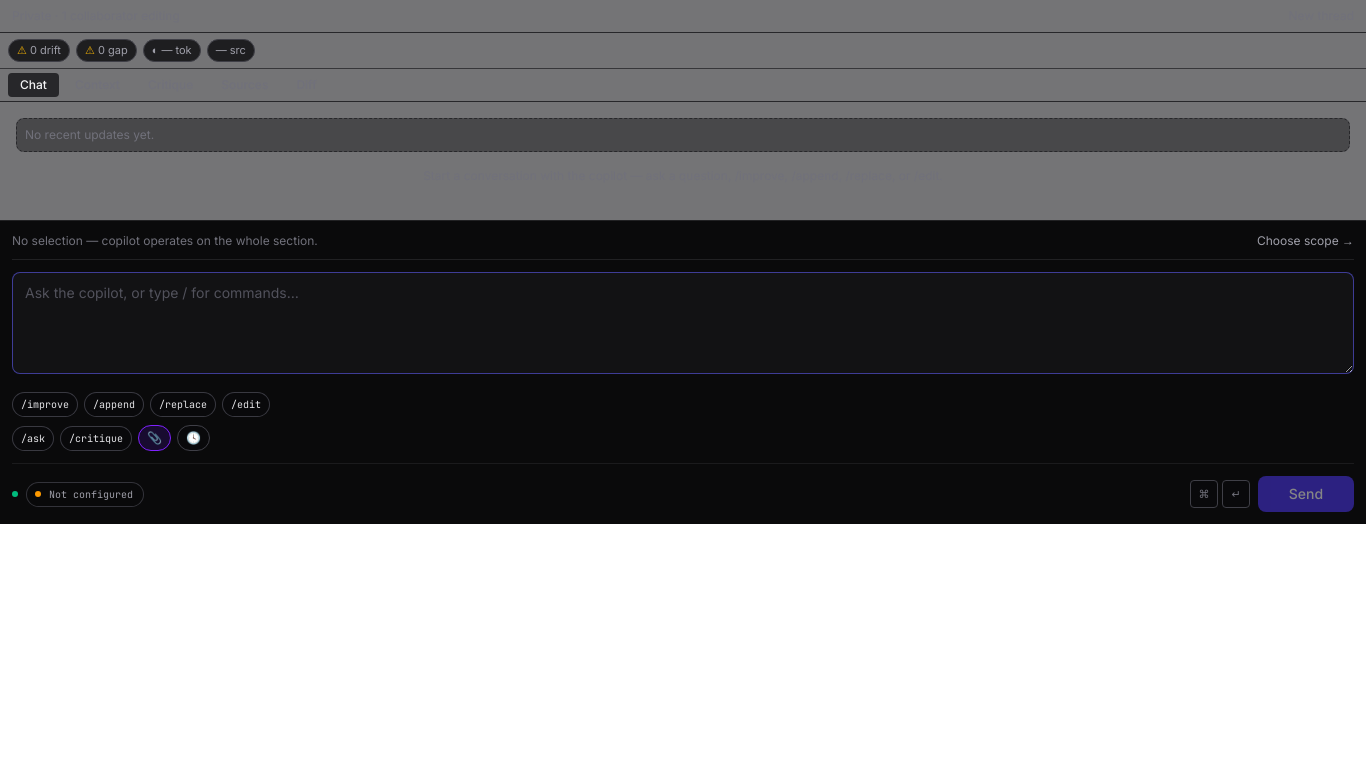
Scenario: ThreadPanel › hides context truncation banner when a new send starts
The image size is (1366, 768).
Type "first" into the text box with placeholder "Ask the copilot, or type / for commands…" at (683, 323), box [12,272,1354,374]
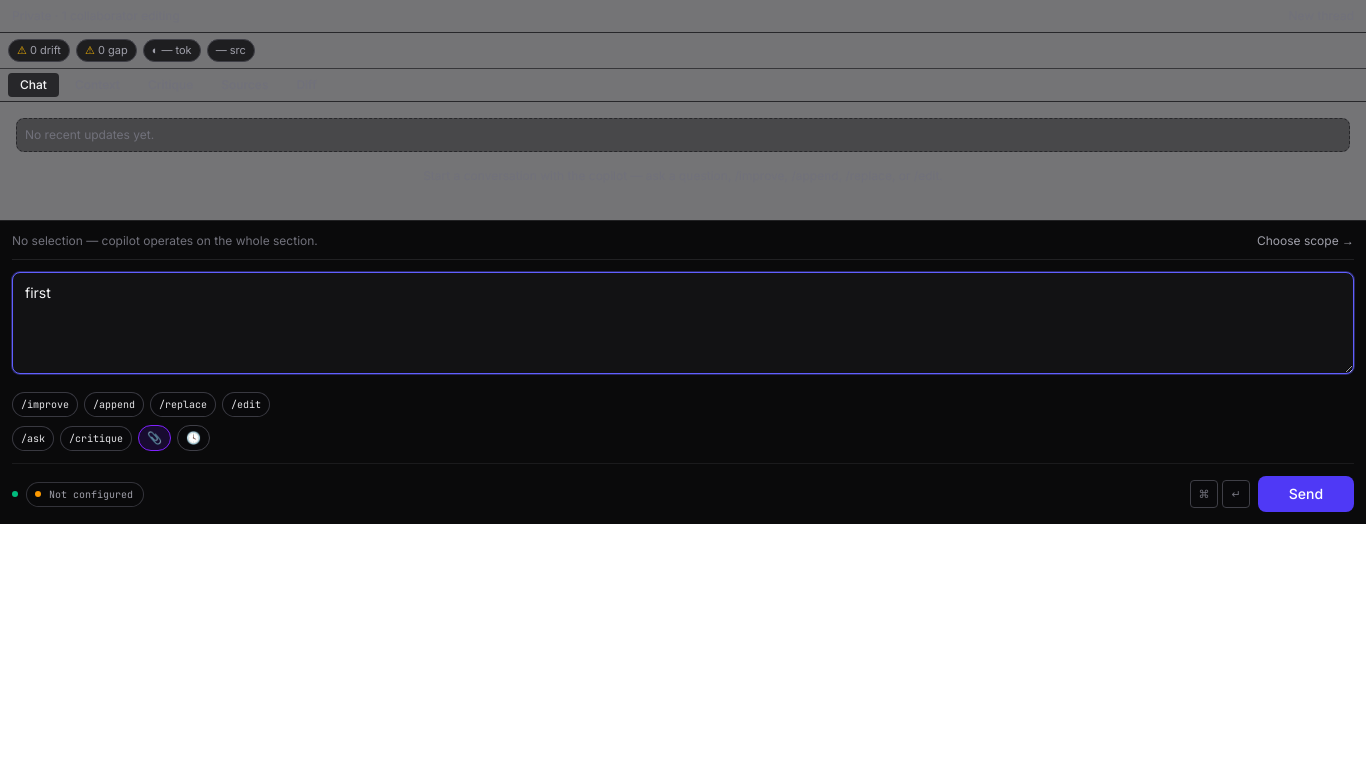
Click the button "Send" at (1306, 494), box [1258,476,1354,512]
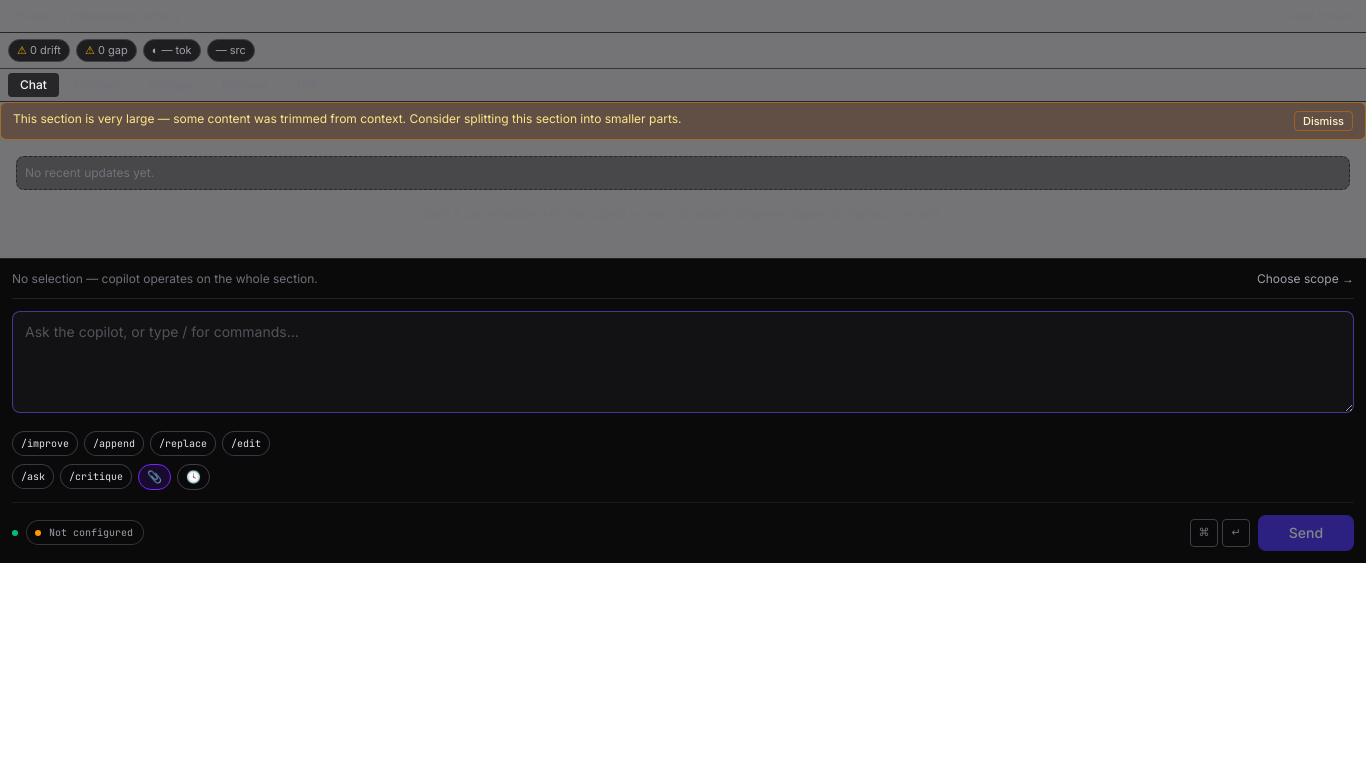
Result: the message is shown at [0,102,1365,140]
Type "second" into the text box with placeholder "Ask the copilot, or type / for commands…" at (683, 362), box [12,311,1354,413]
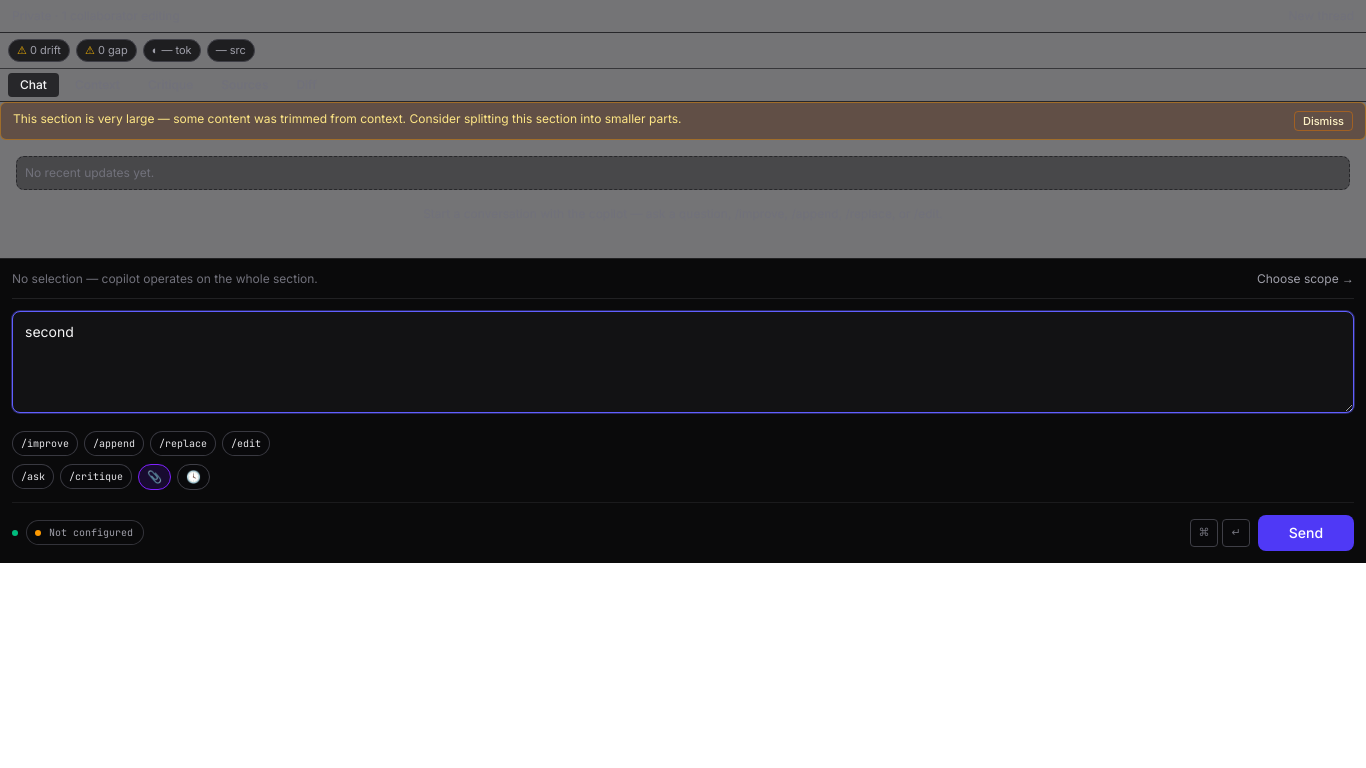
Click the button "Send" at (1306, 533), box [1258,515,1354,551]
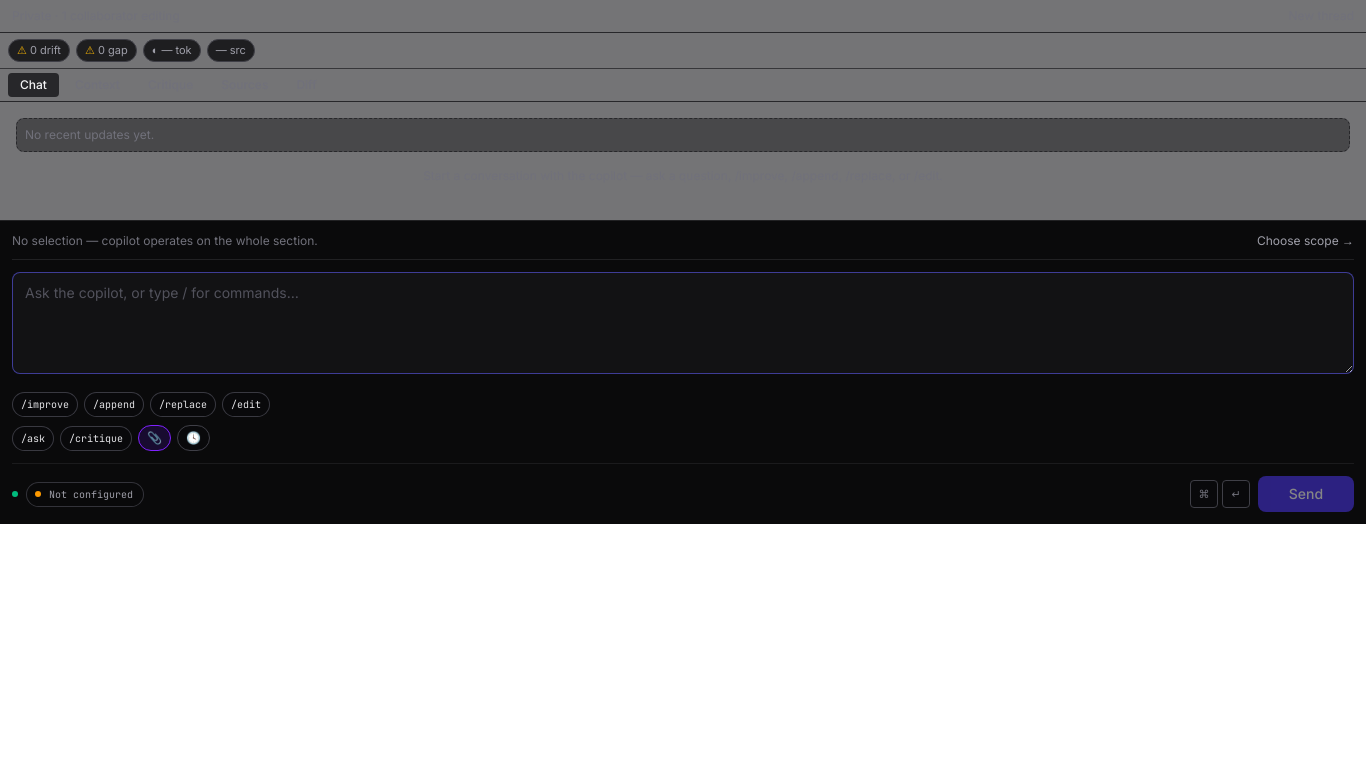
Result: the message is gone
